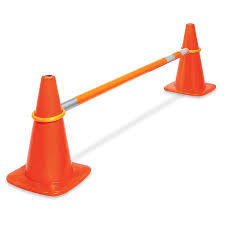cones: (3, 74, 92, 196), (163, 24, 215, 96)
